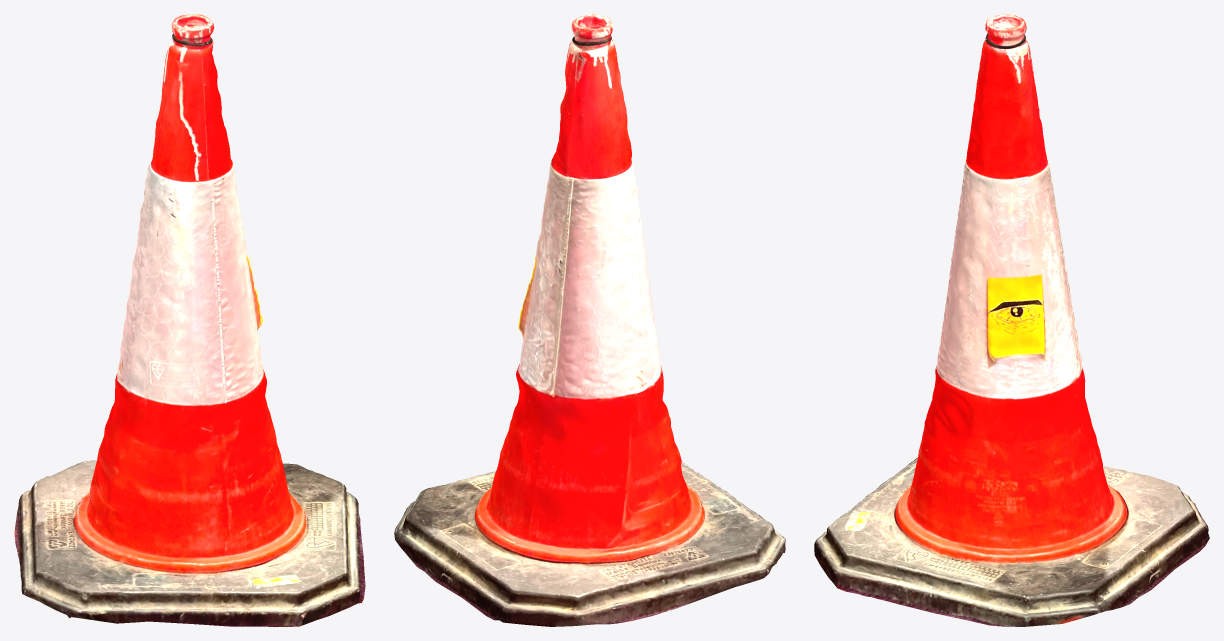
The model's file is obstacle.glb.
3 renders of one model, left to right at view 1: azimuth 30°, elevation 25°; view 2: azimuth 150°, elevation 25°; view 3: azimuth 270°, elevation 25°, orthographic. The views are drawn at different scales.
Visible parts, largest first — view 1: Node 75684_Material 0_0; view 2: Node 75684_Material 0_0; view 3: Node 75684_Material 0_0.
Part boxes in pixels (<box>): Node 75684_Material 0_0: <box>14,14,365,626</box>; Node 75684_Material 0_0: <box>394,14,785,626</box>; Node 75684_Material 0_0: <box>814,14,1209,626</box>.
Bounding box in the file's own units: 0.5259 × 0.78 × 0.5294.
1 material, 1 textured.
